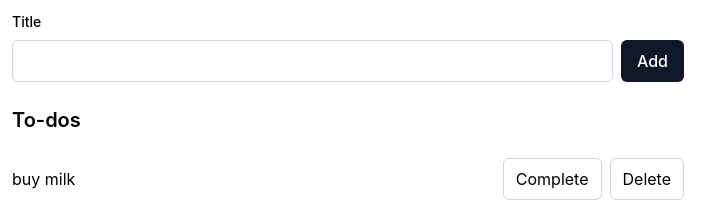
it: TodoItem › announces a stale id and refetches after Delete returns 404
Step 1. Click the button with aria-label "Delete buy milk" → click(647, 179), box [610, 158, 684, 200]
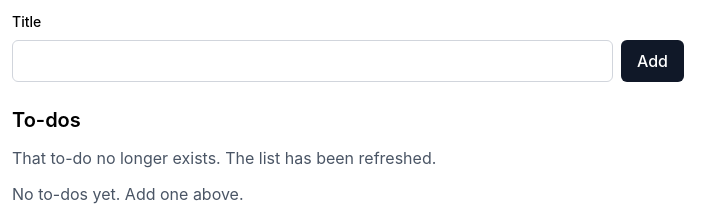
Result: the message reads "That to-do no longer exists. The list has been refreshed." at [12, 148, 436, 168]
Result: the text "No to-dos yet. Add one above." is shown at [12, 184, 244, 204]
